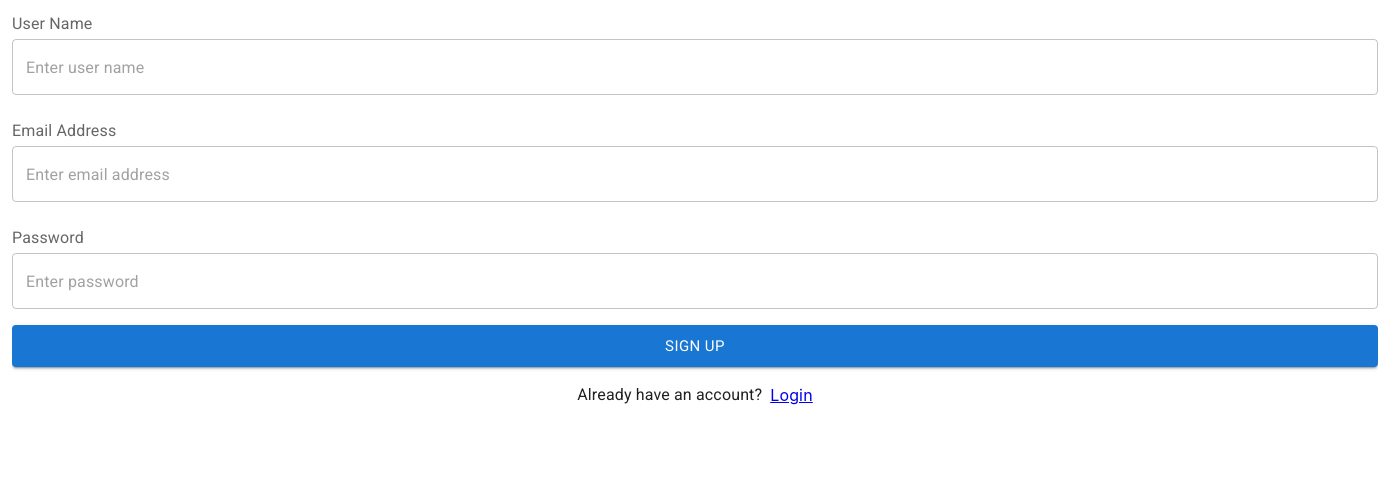
SignUpForm › validates form fields on submission
This screenshot has width=1390, height=494.
Click the button "Sign Up" at (695, 346), box 12,325 -> 1378,367
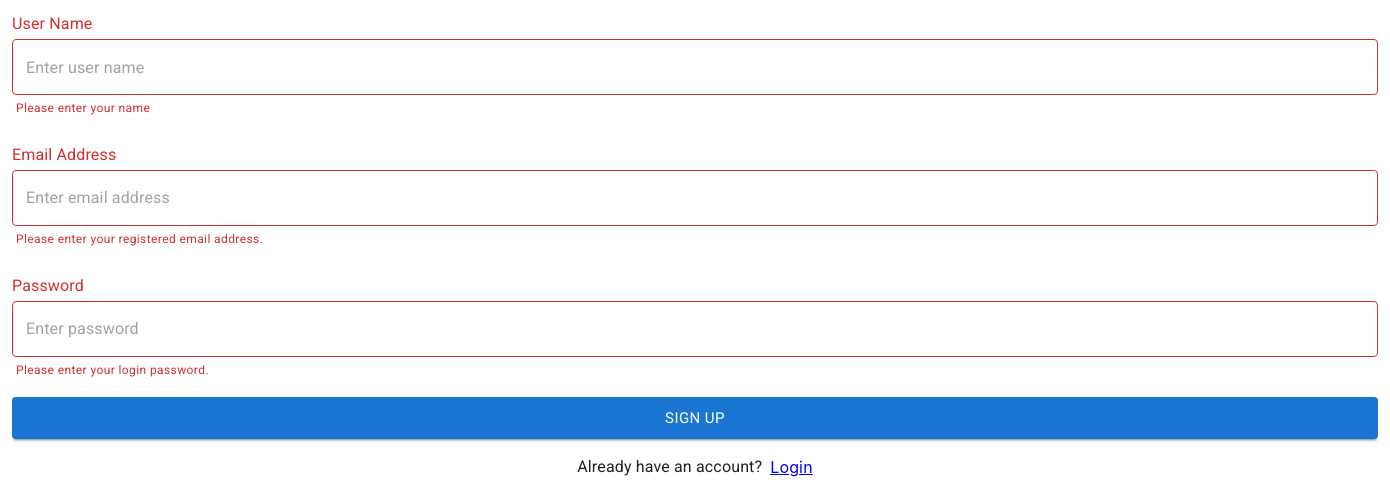
Check: the text "Please enter your name" is shown, box 16,101 -> 150,115
Check: the text "Please enter your registered email address." is shown, box 16,232 -> 263,246
Check: the text "Please enter your login password." is shown, box 16,363 -> 209,377
